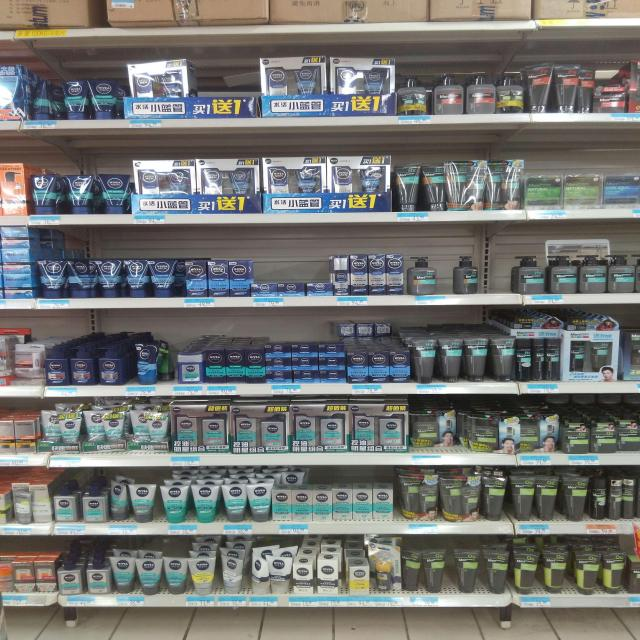empty: (479, 253, 512, 292)
